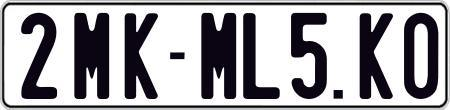0: (404, 12, 435, 102)
2: (18, 10, 55, 99)
5: (288, 12, 327, 104)
K: (357, 11, 390, 102), (122, 11, 155, 99)
L: (242, 13, 284, 102)
M: (74, 10, 113, 101), (199, 10, 236, 102)
